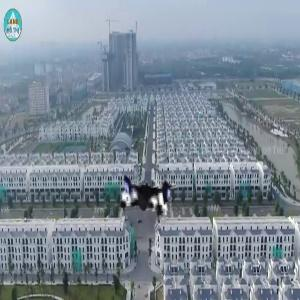drone: (97, 135, 191, 229)
